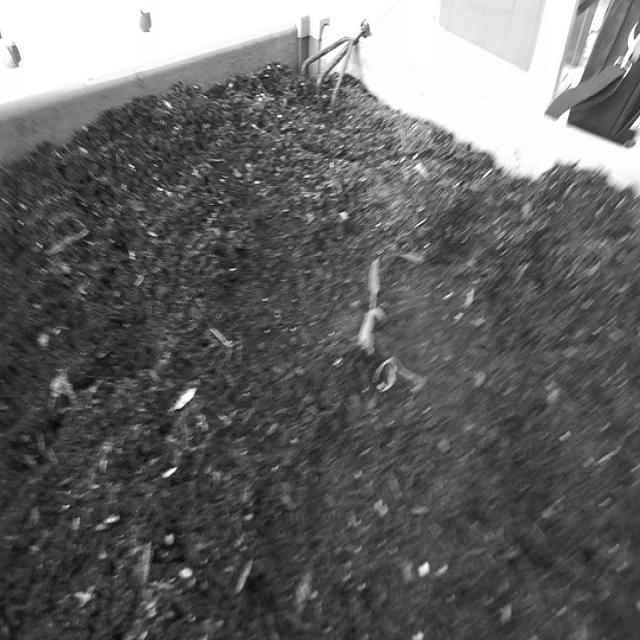Unhealthy: (352, 245, 437, 420)
